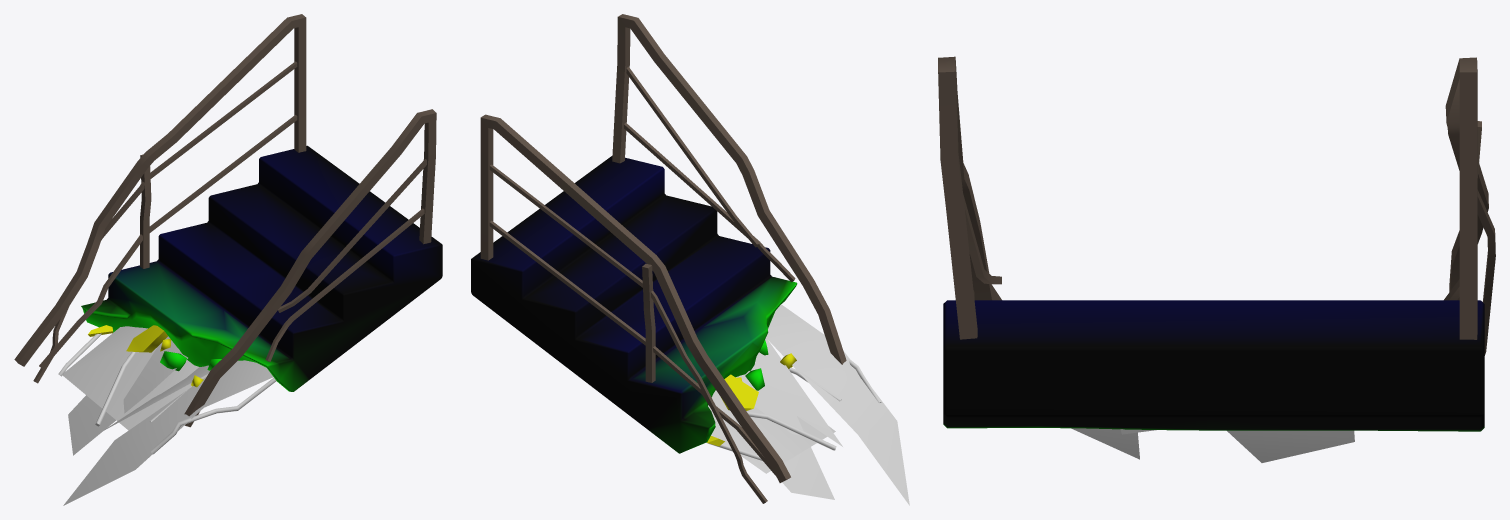
Rendered from DBK_Stairs_Concrete_Short_Damage_Top.FBX.
The picture shows the model from 3 angles, left to right: view 1: azimuth 30°, elevation 25°; view 2: azimuth 150°, elevation 25°; view 3: azimuth 270°, elevation 25°; orthographic projection. The views are drawn at different scales.
Parts seen in each view (by area): view 1: DBK_Stairs_Concrete_Short_Damage_Top, DBK_Stairs_Concrete_Short_Damage_Bottom_Rebar, DBK_Stairs_Concrete_Short_Damage_Rail_L, DBK_Stairs_Concrete_Short_Damage_Rail_R; view 2: DBK_Stairs_Concrete_Short_Damage_Top, DBK_Stairs_Concrete_Short_Damage_Bottom_Rebar, DBK_Stairs_Concrete_Short_Damage_Rail_L, DBK_Stairs_Concrete_Short_Damage_Rail_R; view 3: DBK_Stairs_Concrete_Short_Damage_Top, DBK_Stairs_Concrete_Short_Damage_Rail_L, DBK_Stairs_Concrete_Short_Damage_Rail_R, DBK_Stairs_Concrete_Short_Damage_Bottom_Rebar.
Part boxes in pixels (x1,y1,x2,y2): DBK_Stairs_Concrete_Short_Damage_Top: (81, 145, 442, 391); DBK_Stairs_Concrete_Short_Damage_Bottom_Rebar: (58, 326, 276, 505); DBK_Stairs_Concrete_Short_Damage_Rail_L: (14, 14, 306, 383); DBK_Stairs_Concrete_Short_Damage_Rail_R: (184, 109, 436, 427); DBK_Stairs_Concrete_Short_Damage_Top: (471, 156, 797, 453); DBK_Stairs_Concrete_Short_Damage_Bottom_Rebar: (706, 304, 909, 505); DBK_Stairs_Concrete_Short_Damage_Rail_L: (480, 114, 790, 503); DBK_Stairs_Concrete_Short_Damage_Rail_R: (612, 14, 846, 364); DBK_Stairs_Concrete_Short_Damage_Top: (943, 300, 1484, 431); DBK_Stairs_Concrete_Short_Damage_Rail_L: (1444, 57, 1495, 355); DBK_Stairs_Concrete_Short_Damage_Rail_R: (938, 56, 1001, 339); DBK_Stairs_Concrete_Short_Damage_Bottom_Rebar: (1071, 428, 1354, 462).
Bounding box in the file's own units: 198 × 201 × 144.
